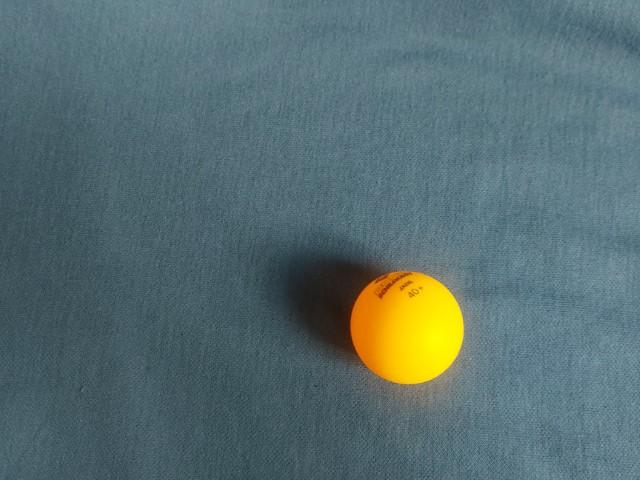oball: (343, 264, 468, 388)
